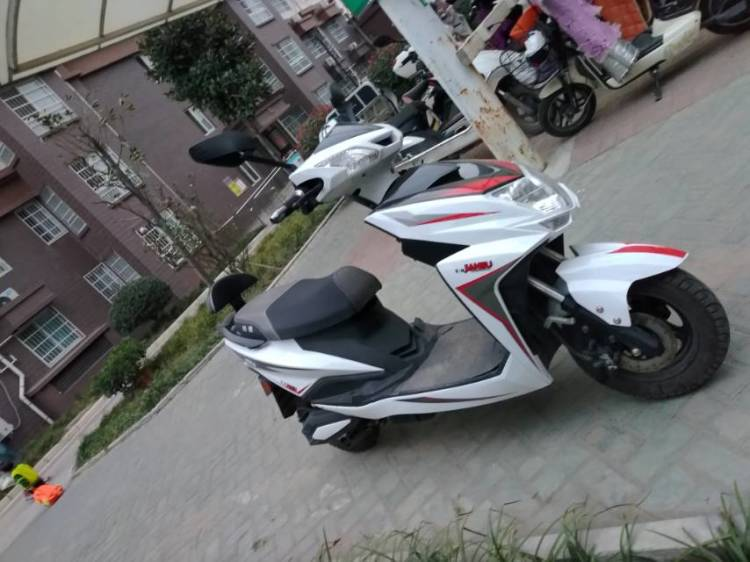电动车: (176, 116, 748, 470), (501, 1, 750, 138)
